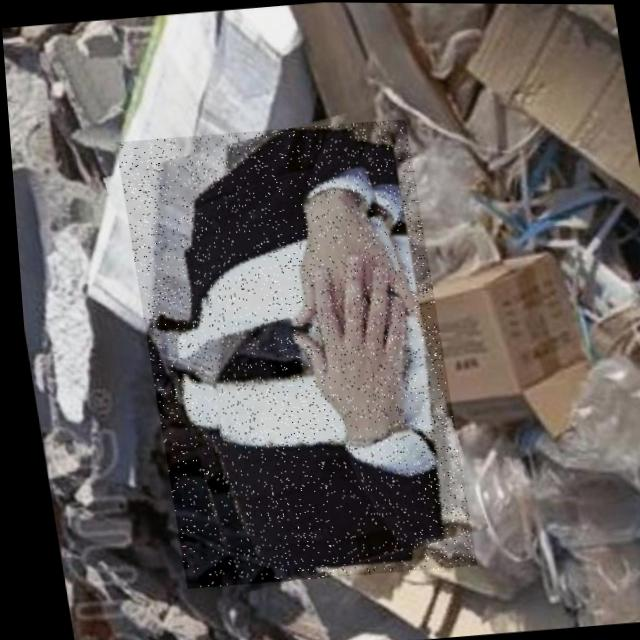Person in Rubble: (111, 115, 470, 589)
